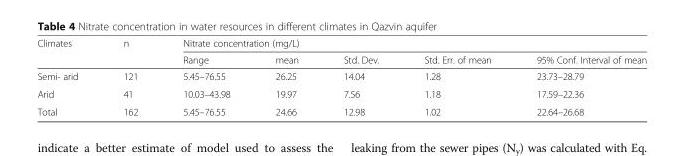table: (36, 37, 646, 117)
table column: (513, 37, 646, 117), (400, 37, 513, 117), (159, 37, 252, 117), (320, 37, 400, 117), (252, 37, 320, 117), (36, 37, 100, 117), (100, 37, 159, 117)
table column header: (36, 37, 646, 67)
table row: (36, 84, 646, 102), (36, 67, 646, 84), (36, 51, 646, 67), (36, 102, 646, 117), (36, 37, 646, 51)
table spanning cell: (159, 37, 646, 51), (36, 37, 100, 67), (100, 37, 159, 67)
